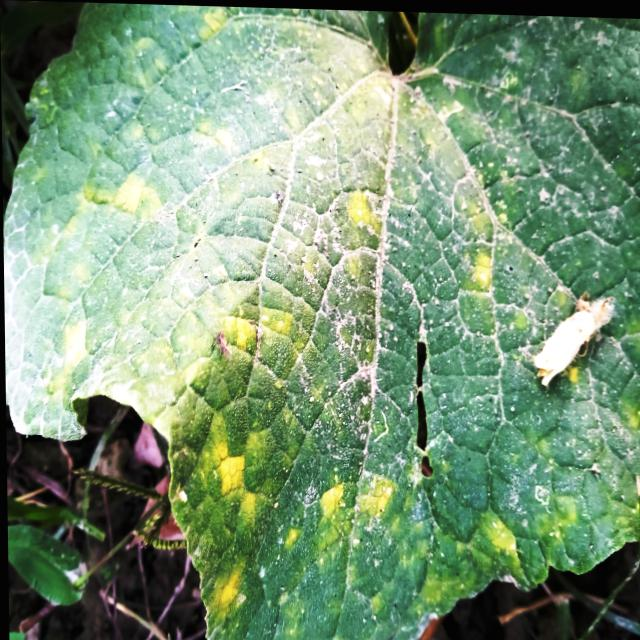Downy-Mildew: (3, 2, 640, 640)
